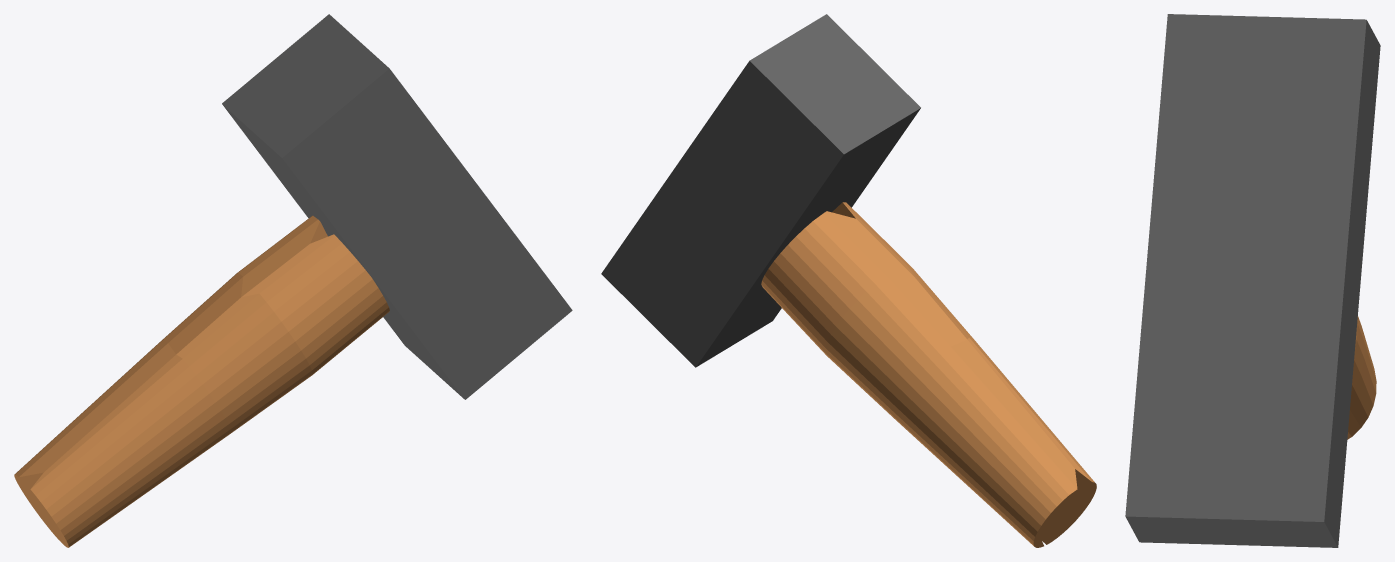
The picture shows the model from 3 angles, left to right: view 1: azimuth 30°, elevation 25°; view 2: azimuth 150°, elevation 25°; view 3: azimuth 270°, elevation 25°; orthographic projection. The views are drawn at different scales.
Parts seen in each view (by area): view 1: Cube.001, Cylinder; view 2: Cube.001, Cylinder; view 3: Cube.001, Cylinder.
Boxes of the visible parts, x1,y1,x2,y2 form: Cube.001: (222, 14, 572, 399); Cylinder: (14, 215, 389, 547); Cube.001: (601, 14, 920, 367); Cylinder: (761, 202, 1096, 547); Cube.001: (1125, 14, 1380, 547); Cylinder: (1347, 316, 1376, 439).
Bounding box in the file's own units: 12.18 × 10.46 × 3.84.
